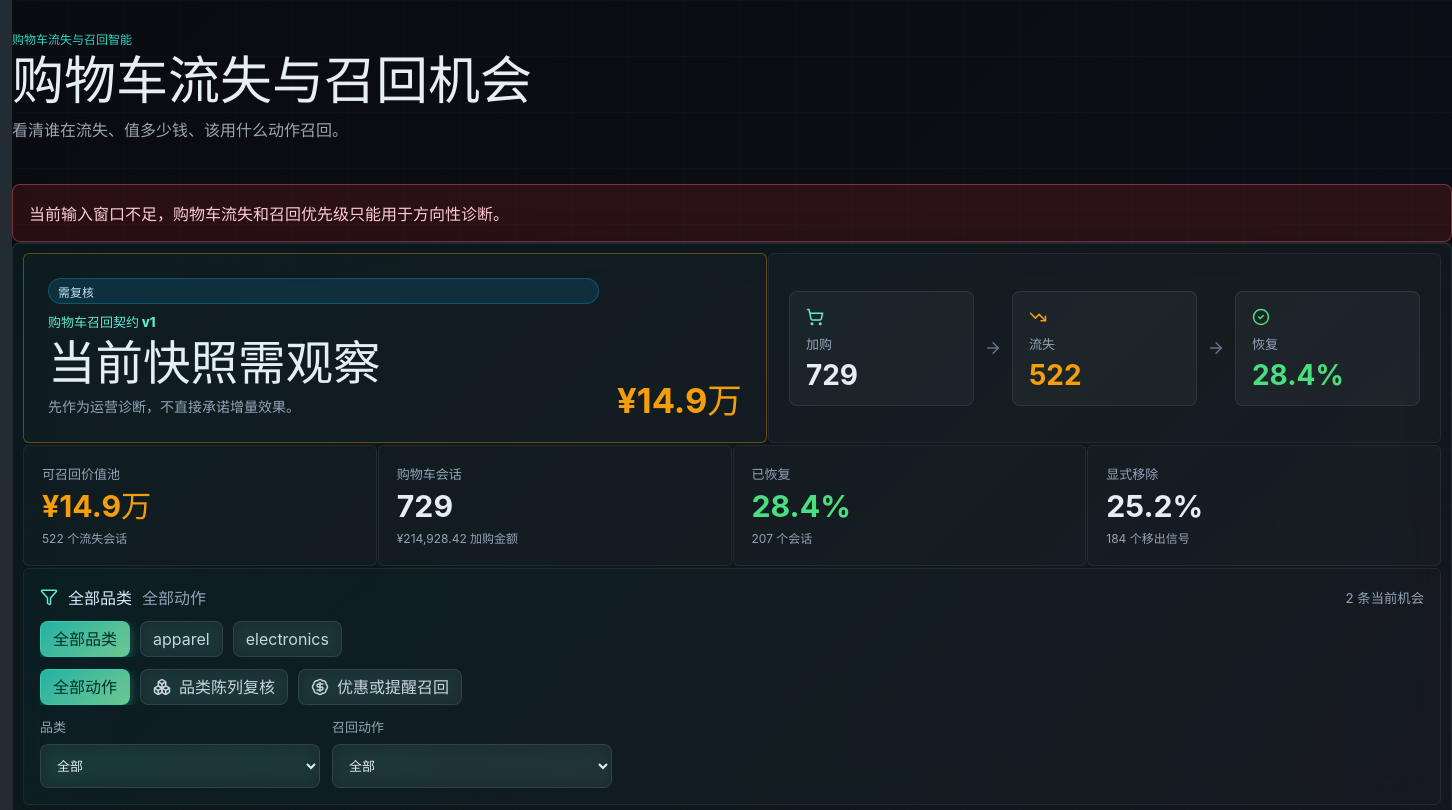
Test: CartRecoveryPage › lets operators filter by category and recovery action
This screenshot has width=1452, height=810.
Select "electronics" in the dropdown labelled "品类" at (180, 766), box x1=40 y1=744 x2=320 y2=788
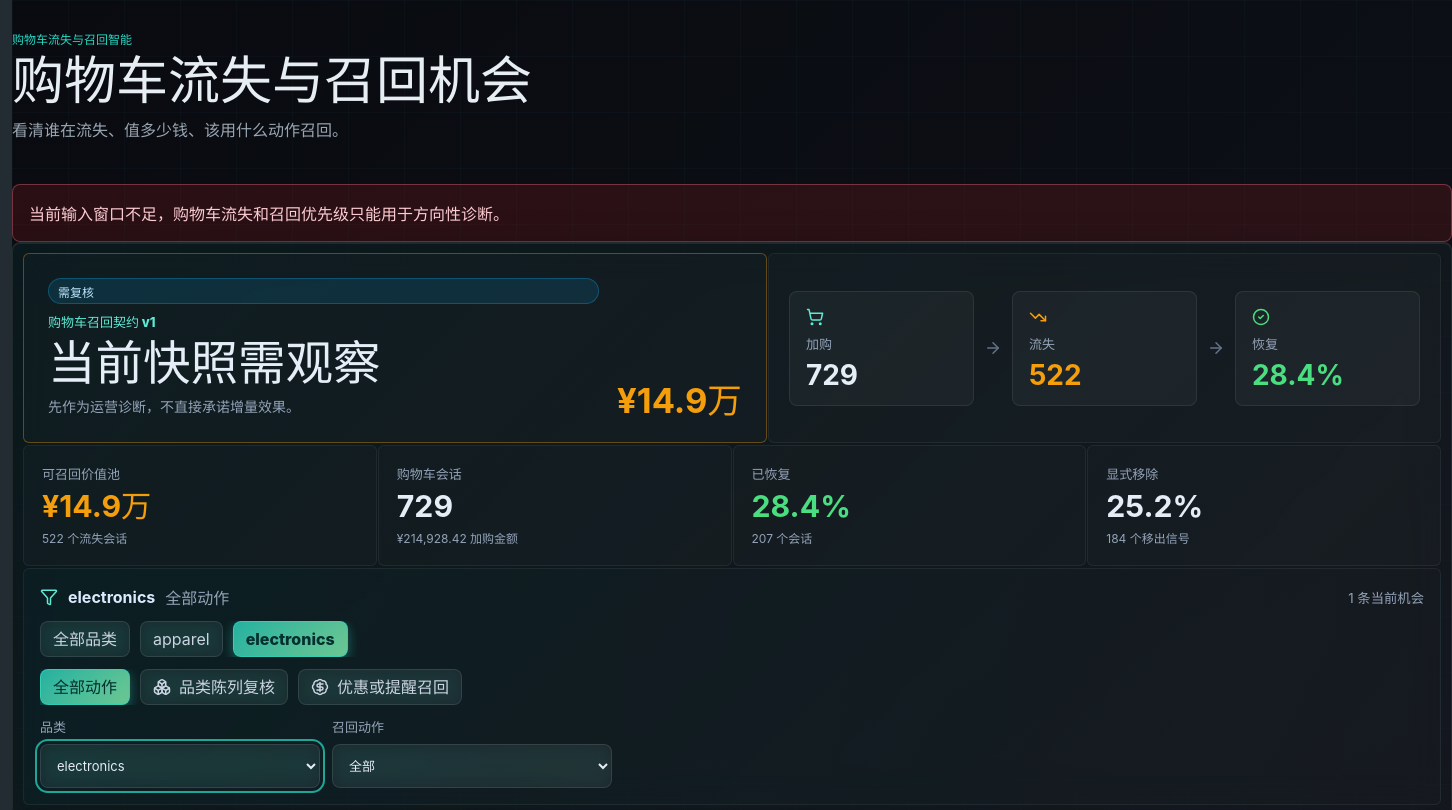
Select "优惠或提醒召回" in the dropdown labelled "召回动作" at (472, 766), box x1=332 y1=744 x2=612 y2=788
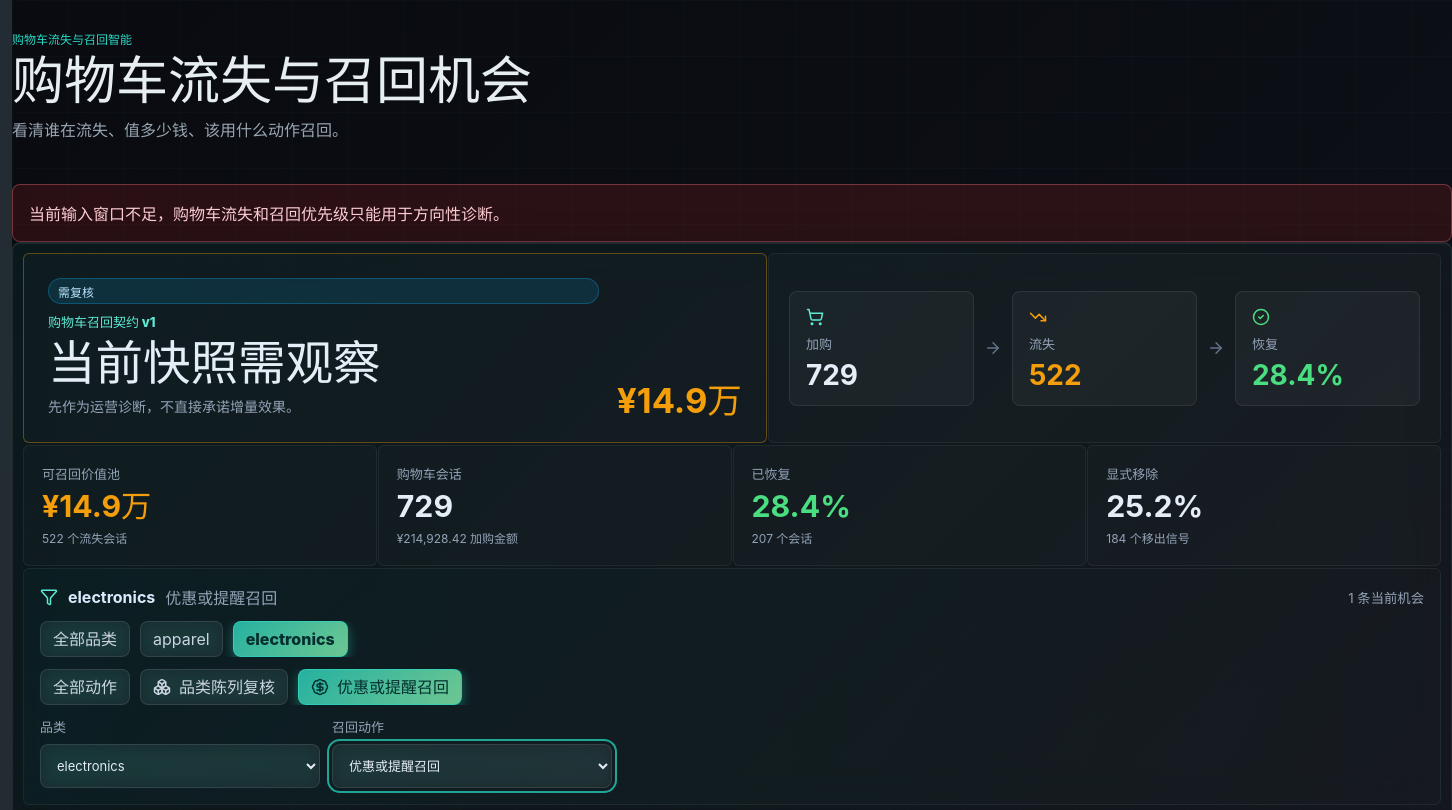
Now the text "优惠或提醒召回" is shown, box x1=165 y1=585 x2=277 y2=609
